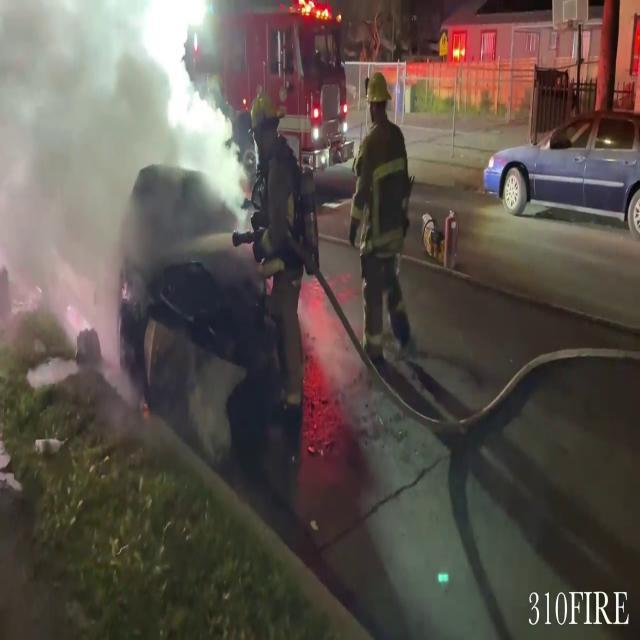Smoke: (0, 0, 246, 264)
